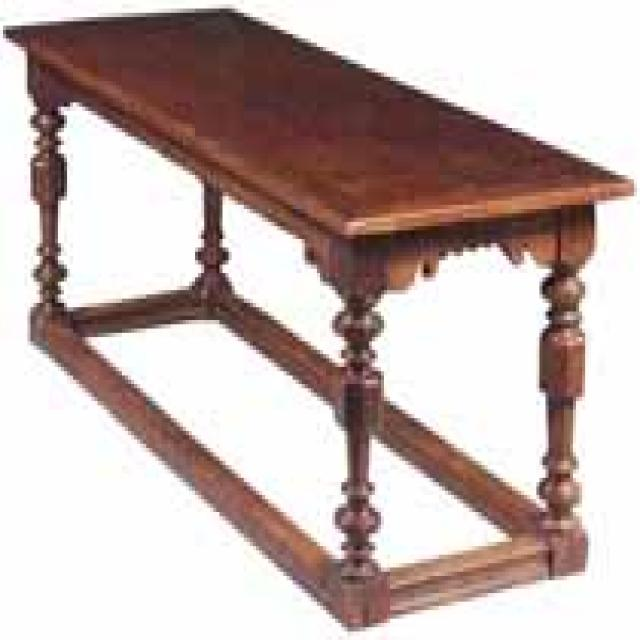table: (0, 0, 637, 631)
